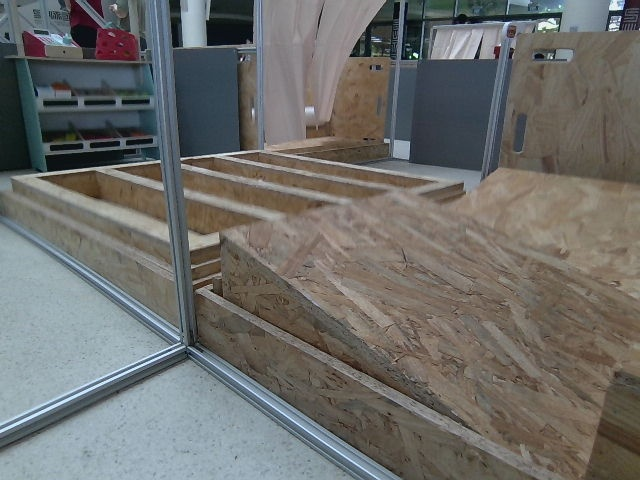curtain: (256, 0, 461, 96)
